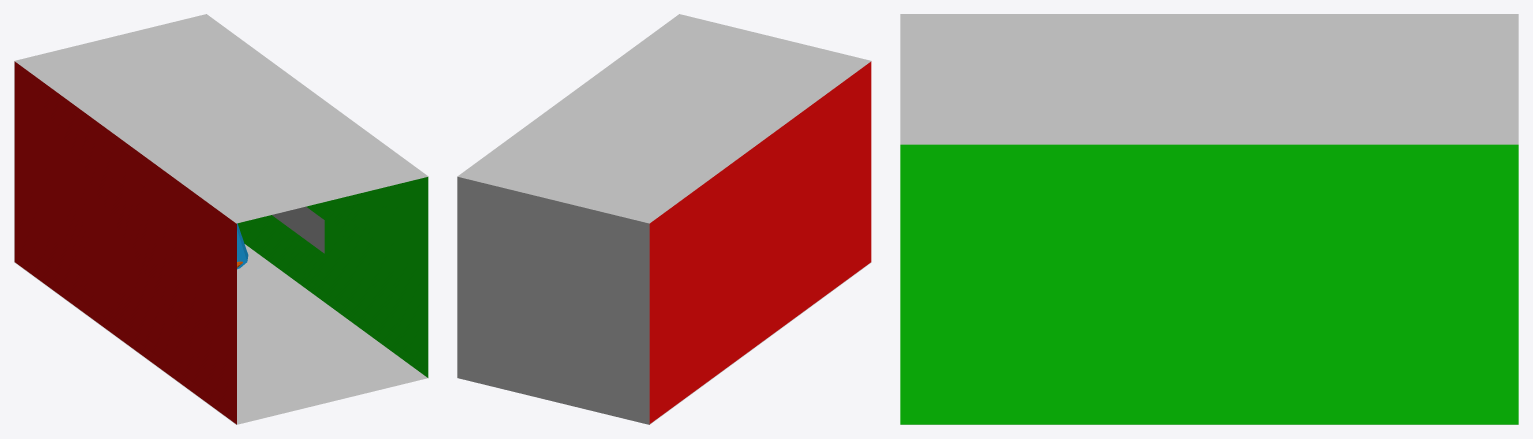
The model's file is teapot_cornell_box_scene.obj.
The picture shows the model from 3 angles, left to right: view 1: azimuth 30°, elevation 25°; view 2: azimuth 150°, elevation 25°; view 3: azimuth 270°, elevation 25°; orthographic projection. The views are drawn at different scales.
Parts seen in each view (by area): view 1: Plane.003_Plane.005, Plane.004_Plane.006, Plane.002_Plane.003, Plane_Plane.001, Plane.007_Plane.010; view 2: Plane.003_Plane.005, Plane.004_Plane.006, Plane.001_Plane.002; view 3: Plane.002_Plane.003, Plane.004_Plane.006, Plane_Plane.001.
Boxes of the visible parts, box(x1,y1,x2,y2) form: Plane.003_Plane.005: box(14, 61, 236, 424); Plane.004_Plane.006: box(14, 14, 428, 223); Plane.002_Plane.003: box(237, 177, 428, 377); Plane_Plane.001: box(14, 244, 427, 424); Plane.007_Plane.010: box(272, 206, 324, 253); Plane.003_Plane.005: box(649, 61, 871, 423); Plane.004_Plane.006: box(457, 14, 871, 223); Plane.001_Plane.002: box(457, 176, 649, 424); Plane.002_Plane.003: box(900, 144, 1518, 424); Plane.004_Plane.006: box(900, 14, 1518, 144); Plane_Plane.001: box(900, 424, 1518, 424).
Bounding box in the file's own units: 6 × 6.02 × 12.
